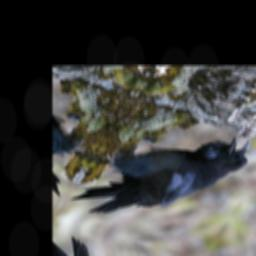Crow: (64, 104, 256, 244)
